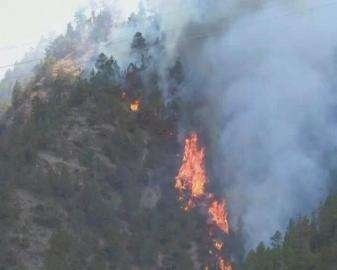fire: (172, 128, 235, 252), (202, 240, 236, 269), (122, 91, 144, 112)
